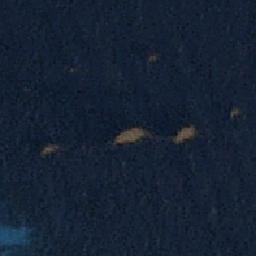debris: (111, 125, 146, 147), (170, 124, 198, 143), (40, 143, 60, 157), (227, 108, 241, 118), (145, 54, 158, 64)
